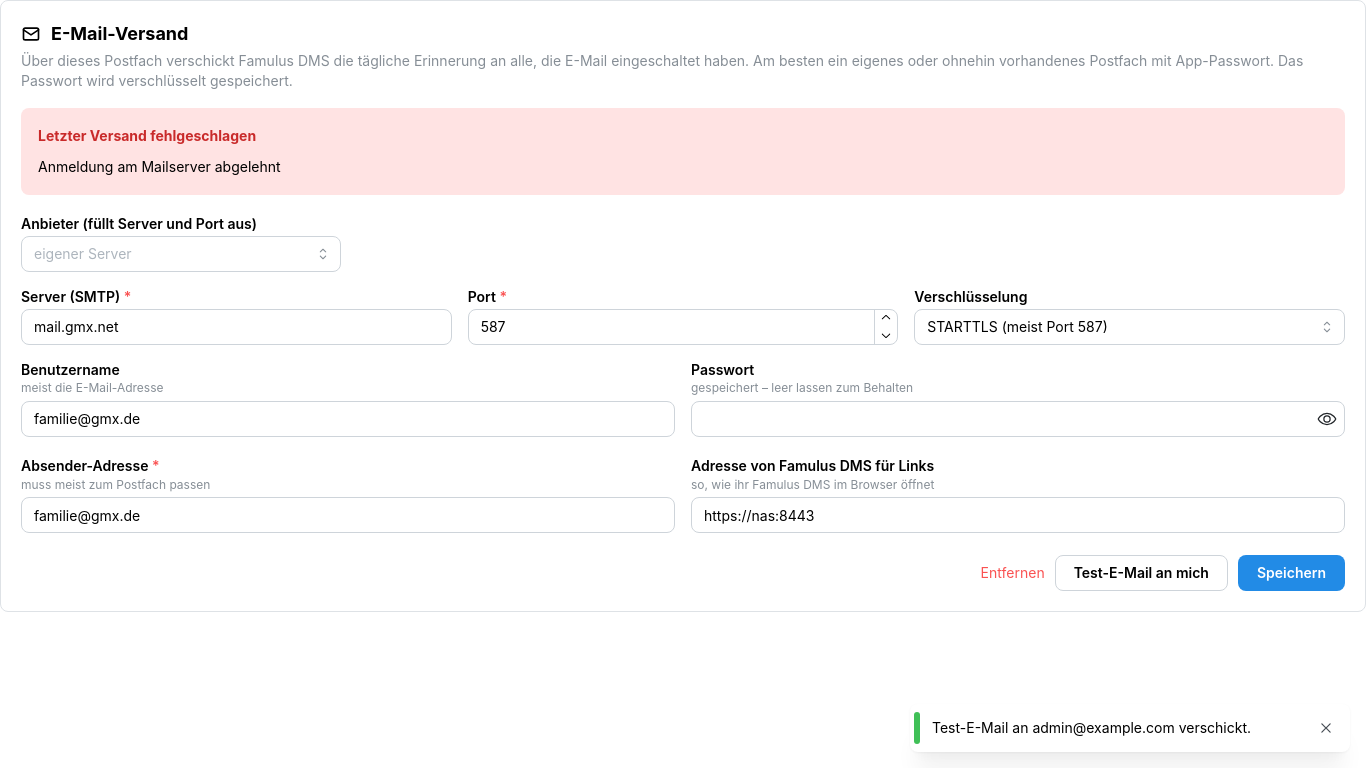
it: E-Mail-Versand (Admin) › Anbieter vorbelegen, speichern ohne das Passwort erneut zu senden, Testmail
Check: the text "Anmeldung am Mailserver abgelehnt" is shown, box [38,158,281,175]
Check: the field labelled "Server (SMTP) *" holds "mail.gmx.net", box [21,309,452,345]
What coordinates should you click on to do the following:
click the dropdown labelled "Anbieter (füllt Server und Port aus)"
I would click on:
 (181, 254)
Its box is [21,236,341,272].
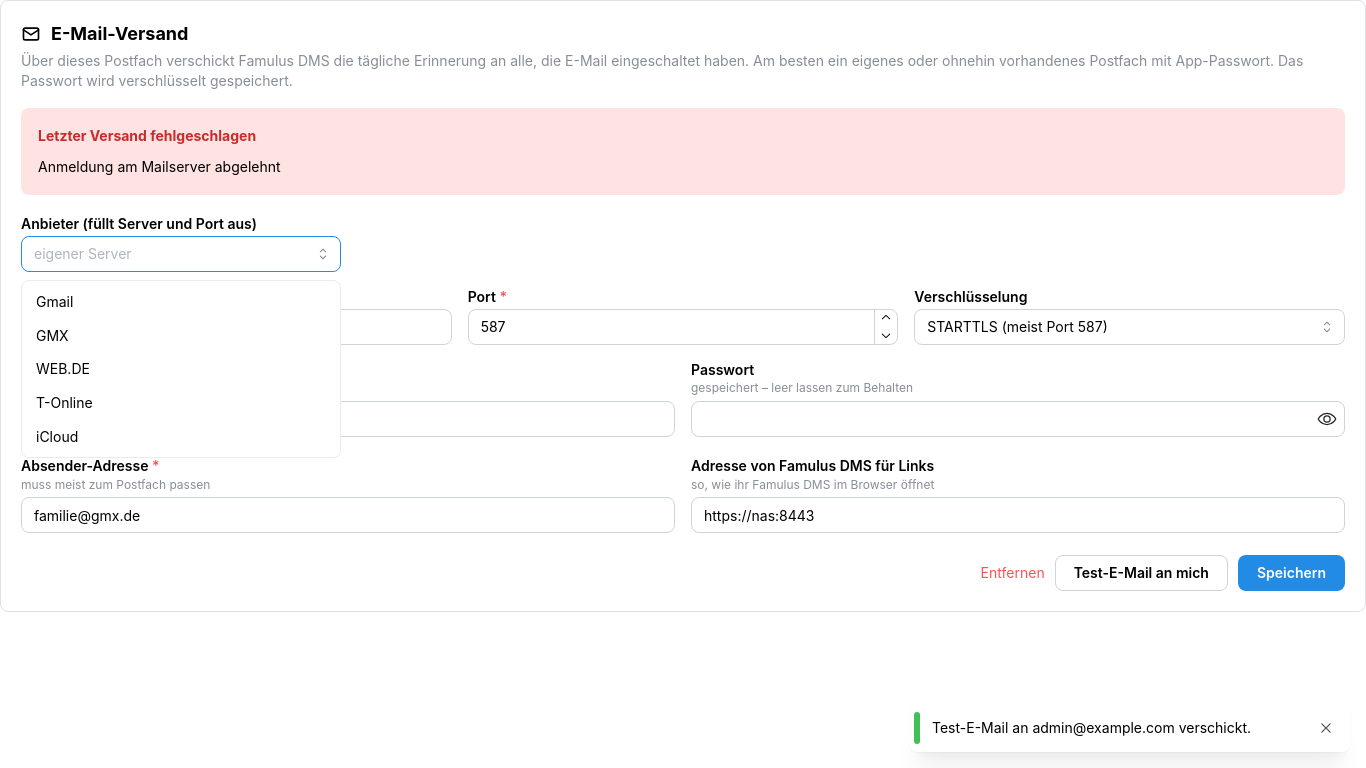
What coordinates should you click on to do the following:
click the option "WEB.DE"
I would click on:
 (63, 369)
Its box is [36,360,90,377].
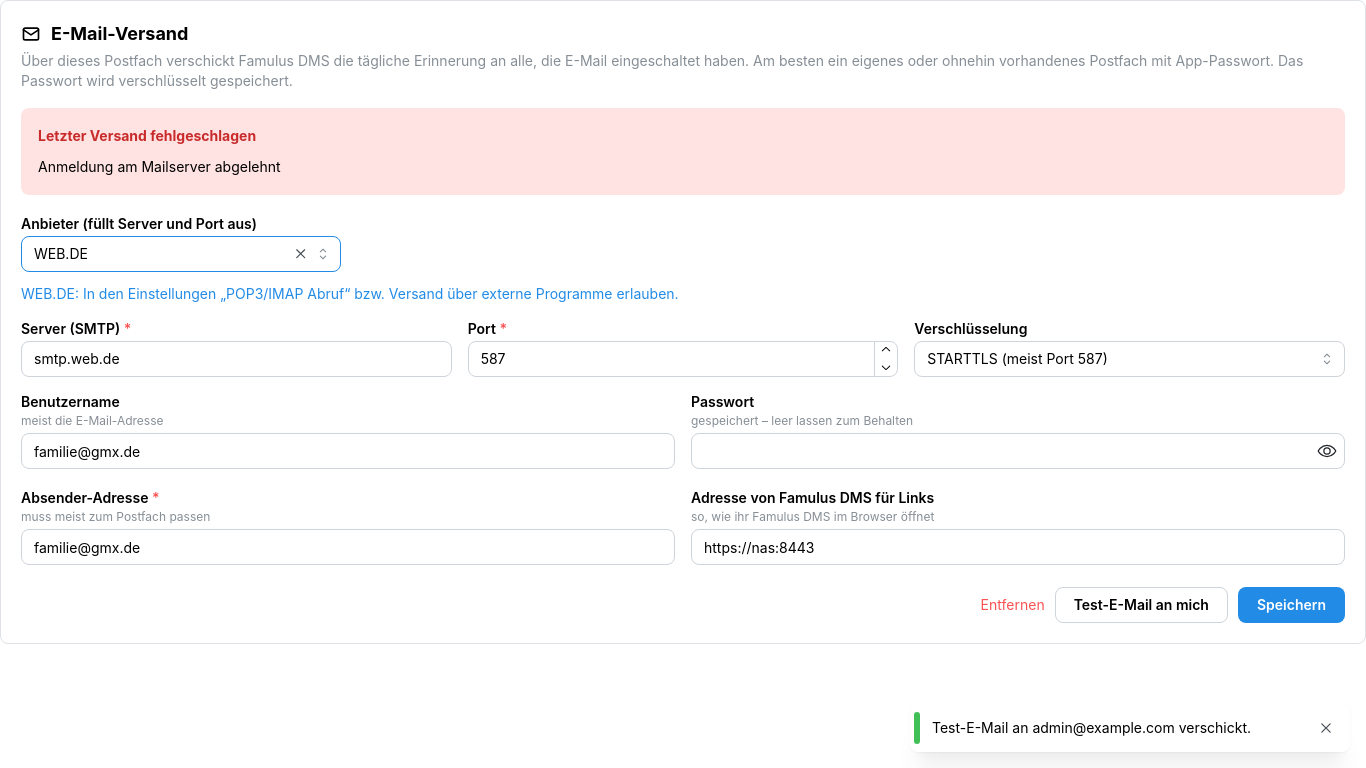
Check: the field labelled "Server (SMTP) *" holds "smtp.web.de", box [21,341,452,377]
Check: the text "WEB.DE: In den Einstellungen" is shown, box [21,285,679,302]
What coordinates should you click on to do the following:
click the button "Speichern"
I would click on:
 (1291, 605)
Its box is [1238,587,1345,623].
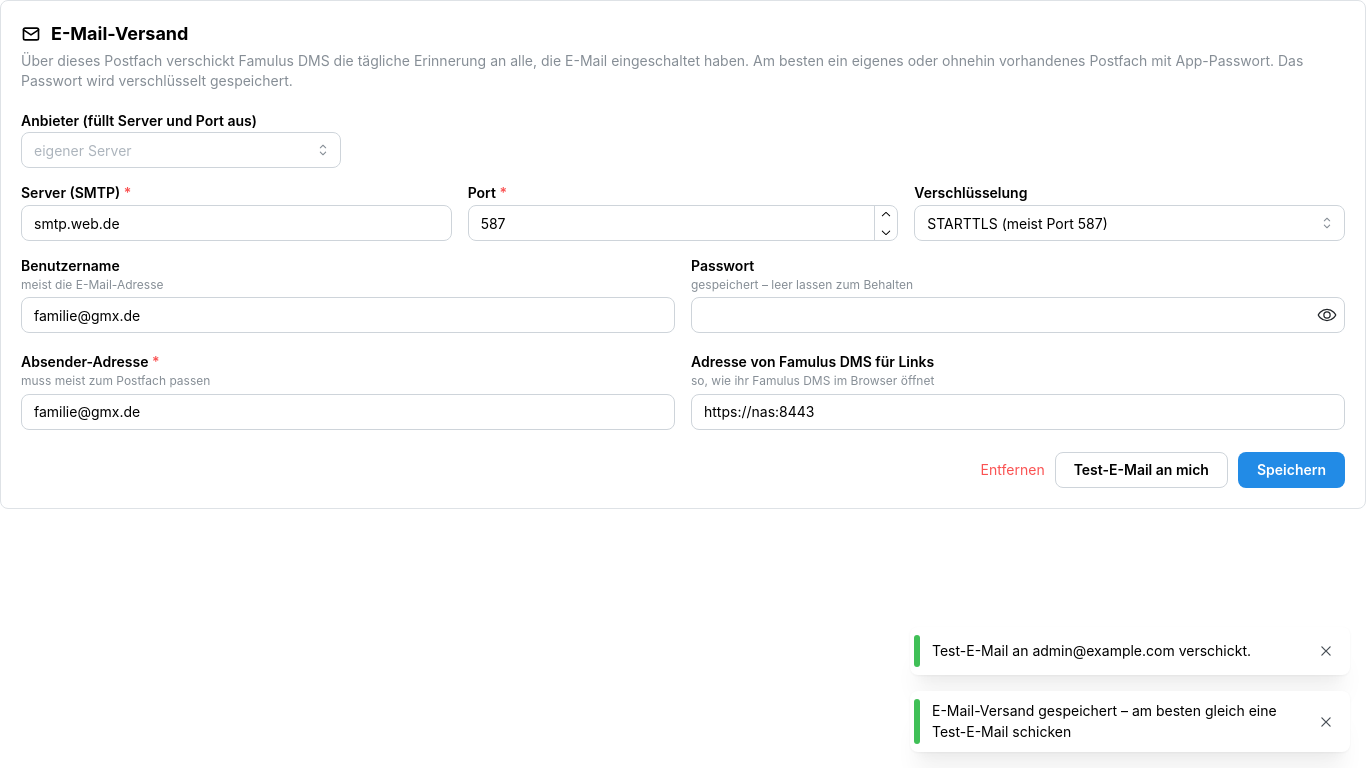
Check: the text "Anmeldung am Mailserver abgelehnt" is gone
What coordinates should you click on to do the following:
click the button "Test-E-Mail an mich"
I would click on:
 (1141, 470)
Its box is [1055,452,1228,488].
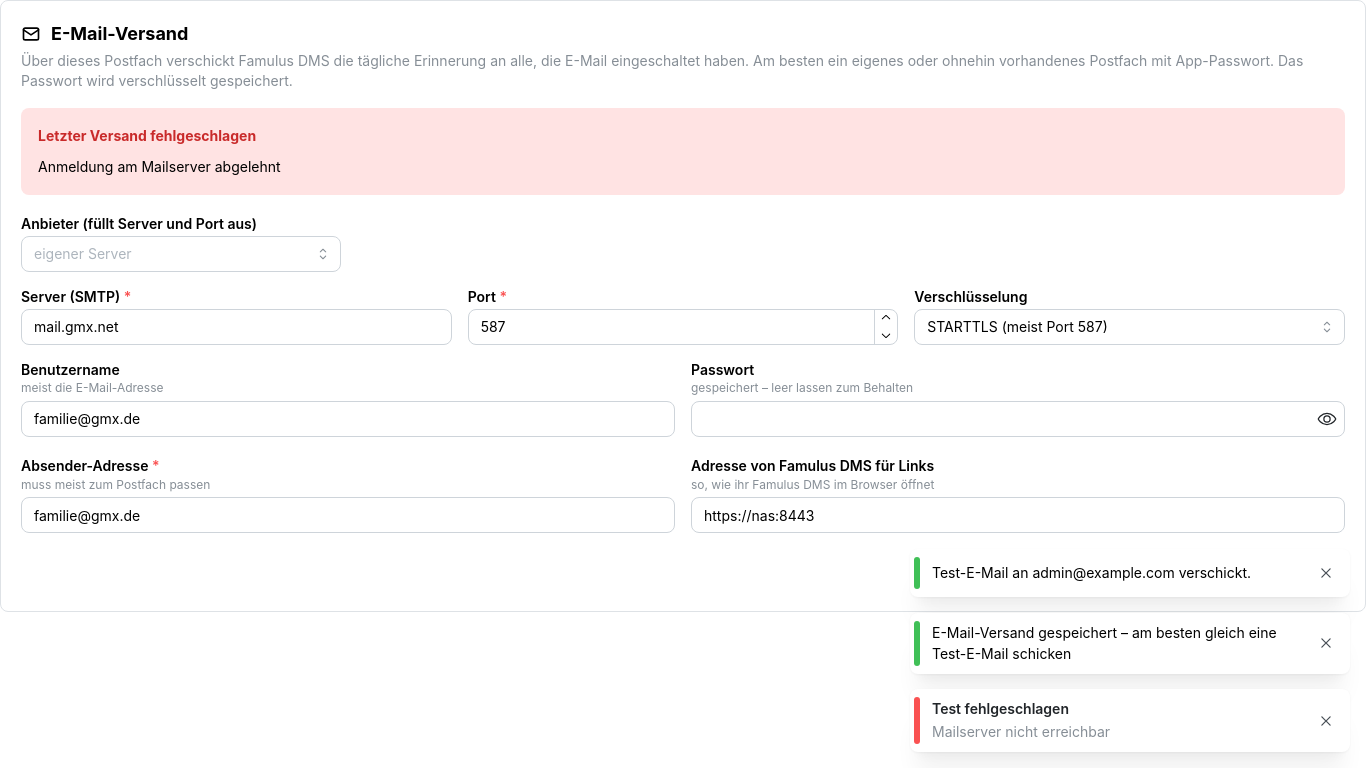
Check: the text "Mailserver nicht erreichbar" is shown, box [932,723,1110,740]
